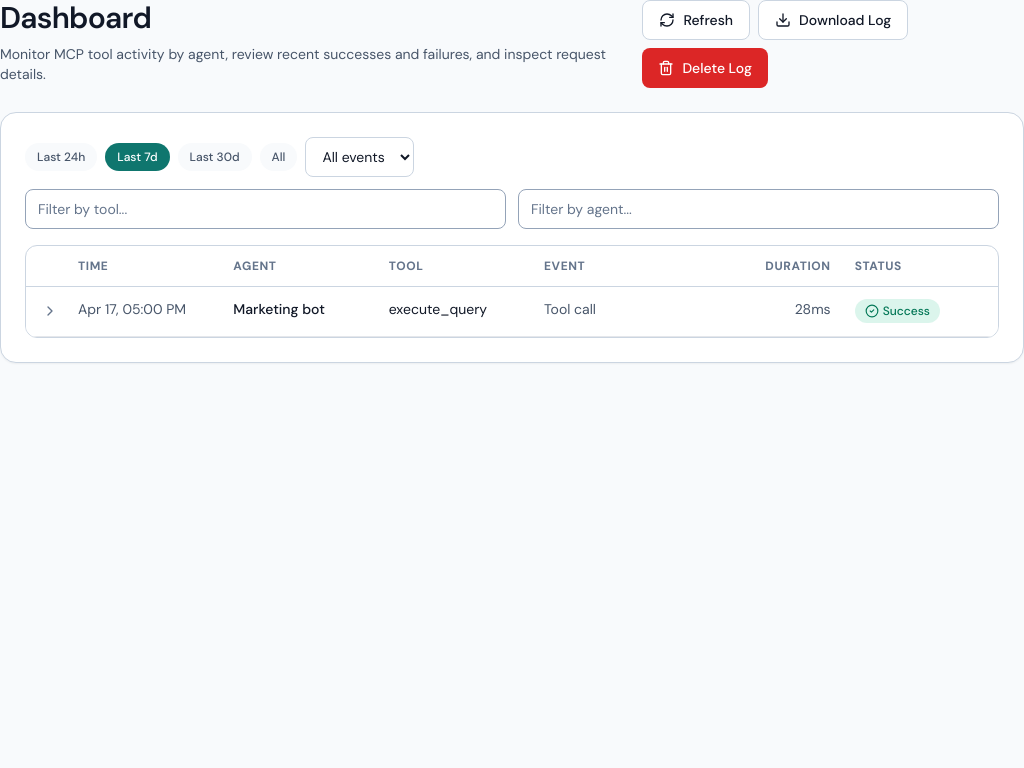
it: HomePage › deletes the dashboard log and forces an offset-0 refresh without stale expanded details
This screenshot has width=1024, height=768.
Expected: the text "Marketing bot" is shown, [221, 286, 377, 336]
Expected: the button "Delete Log" is shown, [642, 48, 768, 88]
Click the button named "expand details for execute_query" at (50, 311), box [38, 299, 62, 323]
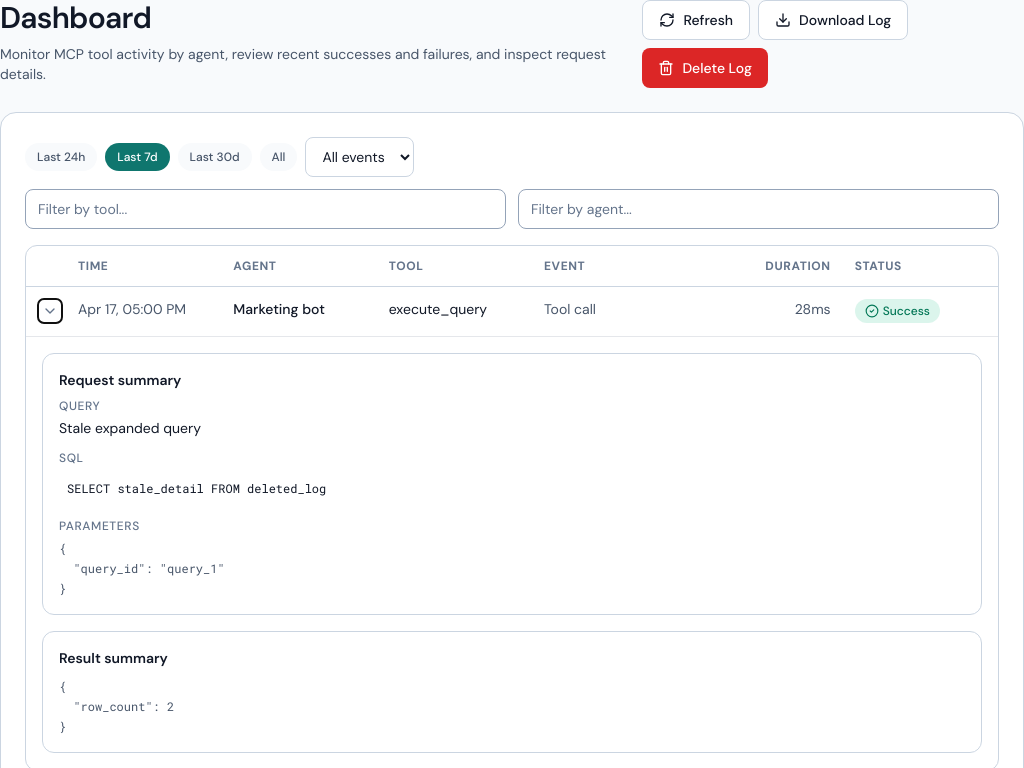
Expected: the text "Stale expanded query" is shown, [59, 419, 201, 437]
Expected: the text "SELECT stale_detail FROM deleted_log" is shown, [67, 480, 326, 496]
Click the button "Delete Log" at (705, 68), box [642, 48, 768, 88]
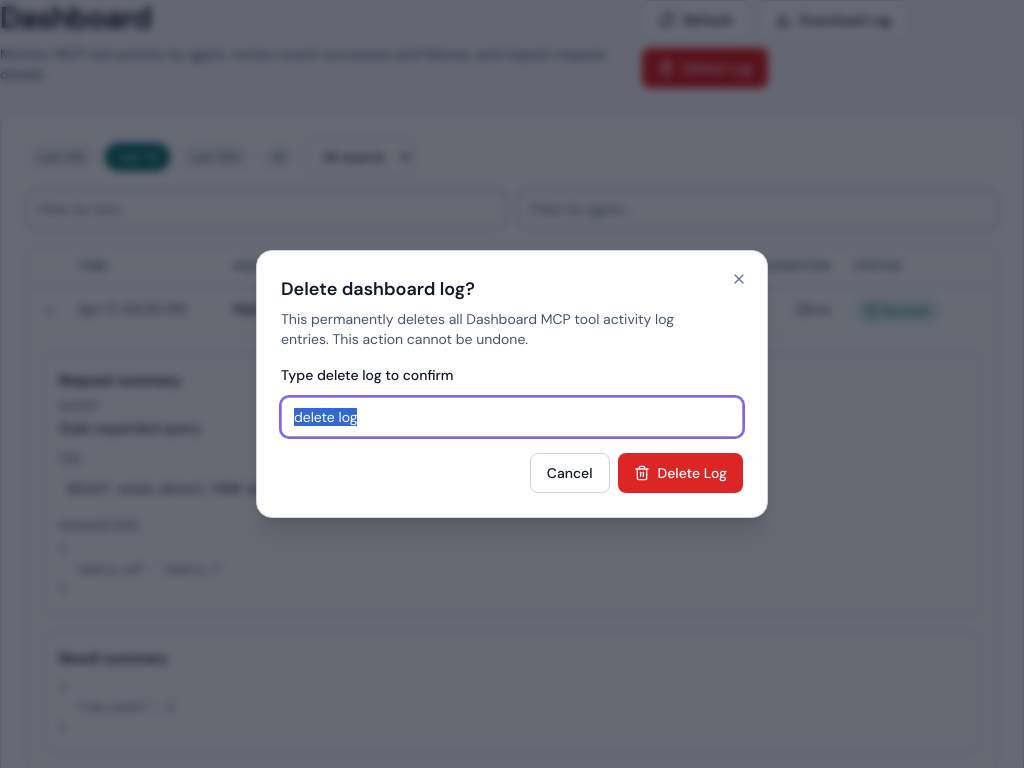
Expected: the field labelled "Type delete log to confirm" holds "delete log", [281, 397, 743, 437]
Expected: the button "Delete Log" is enabled
Click the button "Delete Log" at (680, 473), box [618, 453, 743, 493]
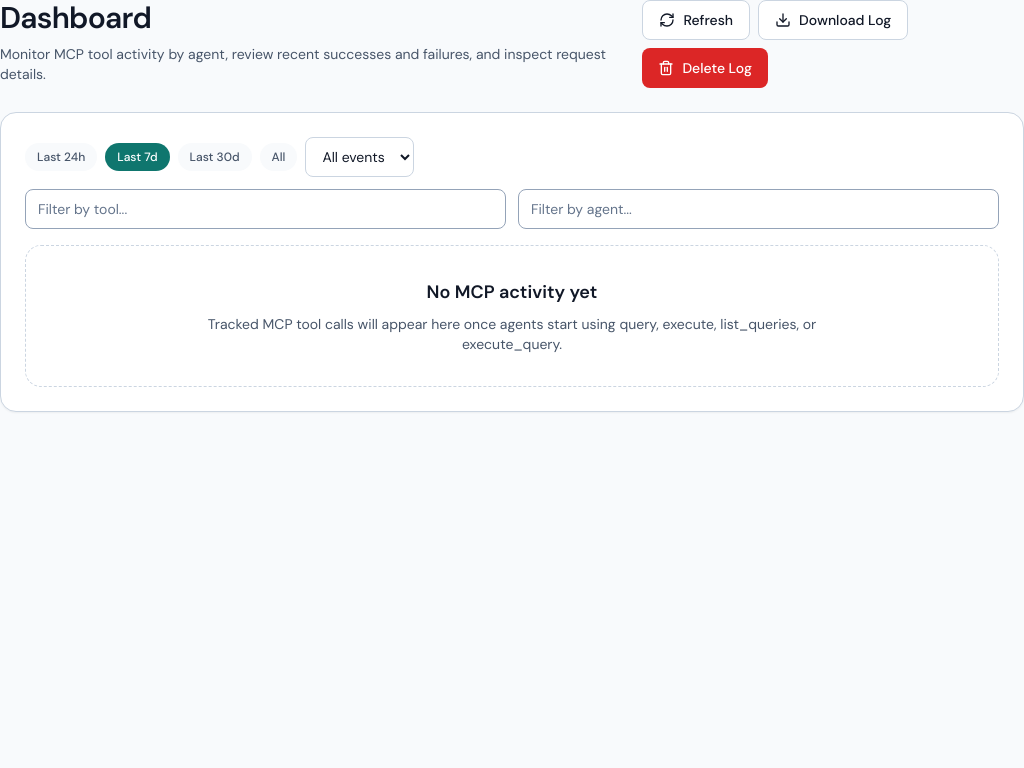
Expected: the heading "Delete dashboard log" is gone
Expected: the heading "No MCP activity yet" is shown, [427, 280, 597, 304]
Expected: the text "Stale expanded query" is gone
